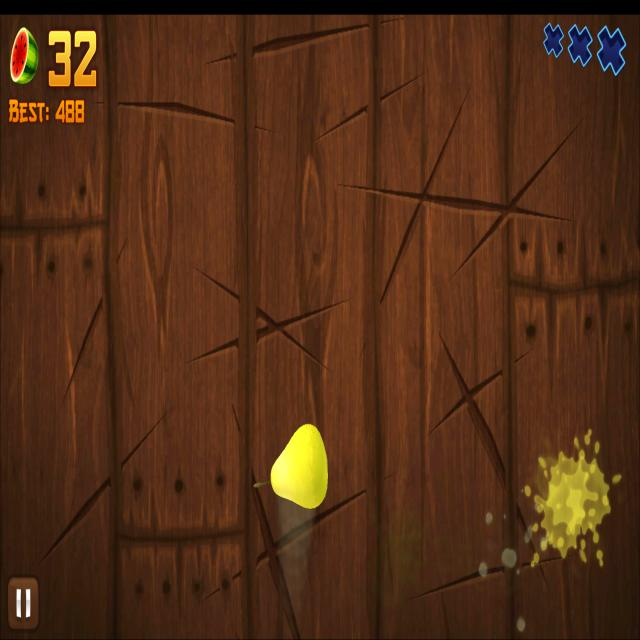fruit: (270, 422, 328, 512)
